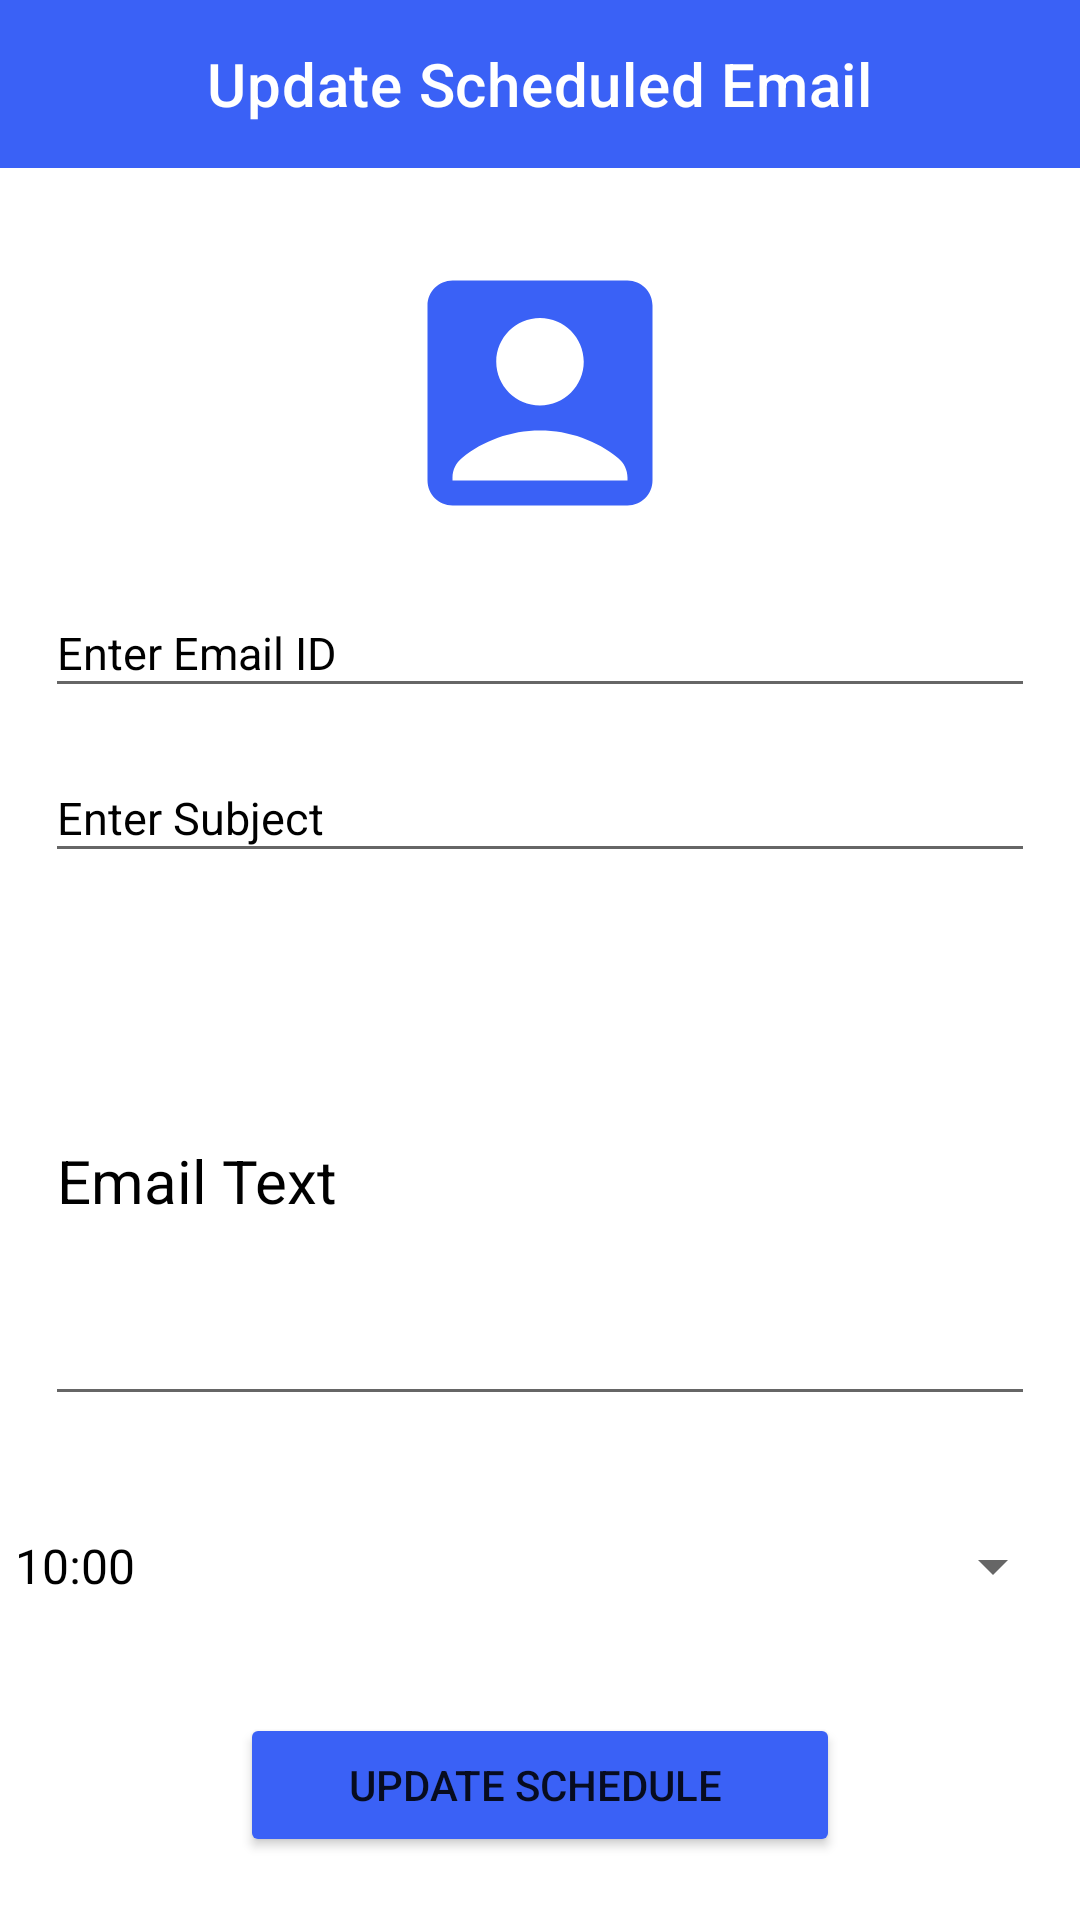

Locate icon controls on the screen. Image size 1080x1920, boxes as (x1, y1, x2, y2).
account box: (427, 280, 653, 506)
